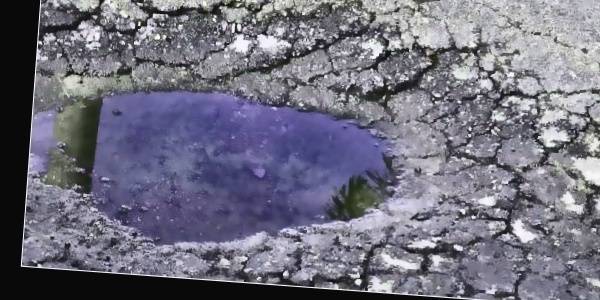pothole: (23, 7, 469, 268)
